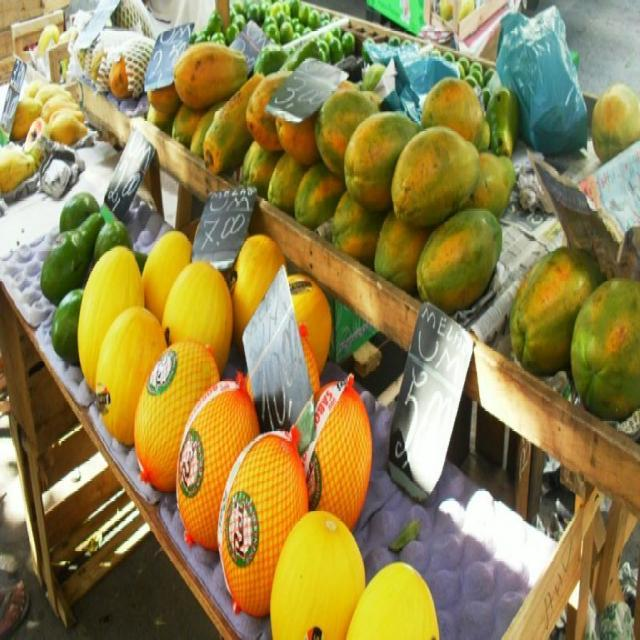Banana: (39, 26, 59, 55)
